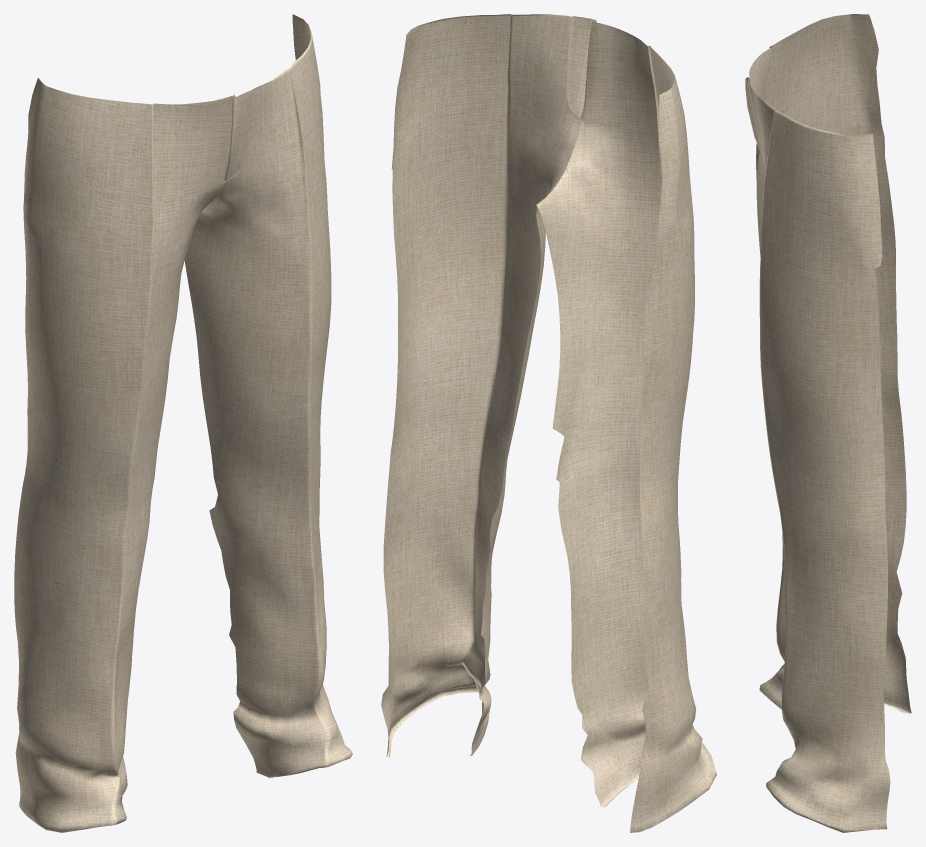
File: forward_single_pleat.glb
3 renders of one model, left to right at view 1: azimuth 30°, elevation 25°; view 2: azimuth 150°, elevation 25°; view 3: azimuth 270°, elevation 25°, orthographic. The views are drawn at different scales.
Parts seen in each view (by area): view 1: forward_single_pleat3; view 2: forward_single_pleat3; view 3: forward_single_pleat3.
Boxes of the visible parts, x1,y1,x2,y2 form: forward_single_pleat3: [14, 14, 352, 832]; forward_single_pleat3: [381, 14, 716, 832]; forward_single_pleat3: [745, 14, 911, 832].
Size of the model in its own units: 0.0545 by 0.1247 by 0.027.
Materials: 1 (1 with a texture image).
